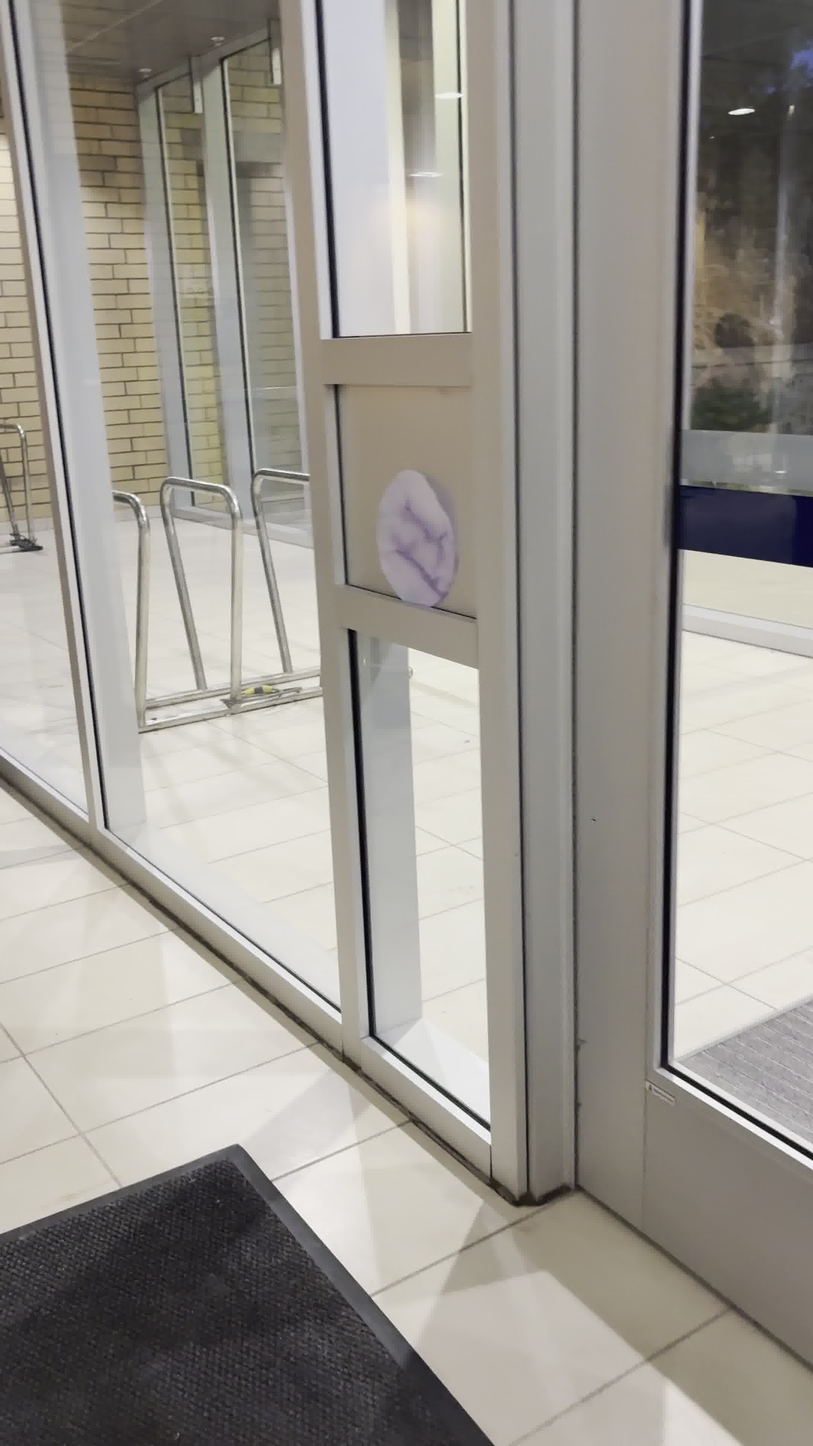Target: (367, 463, 467, 609)
